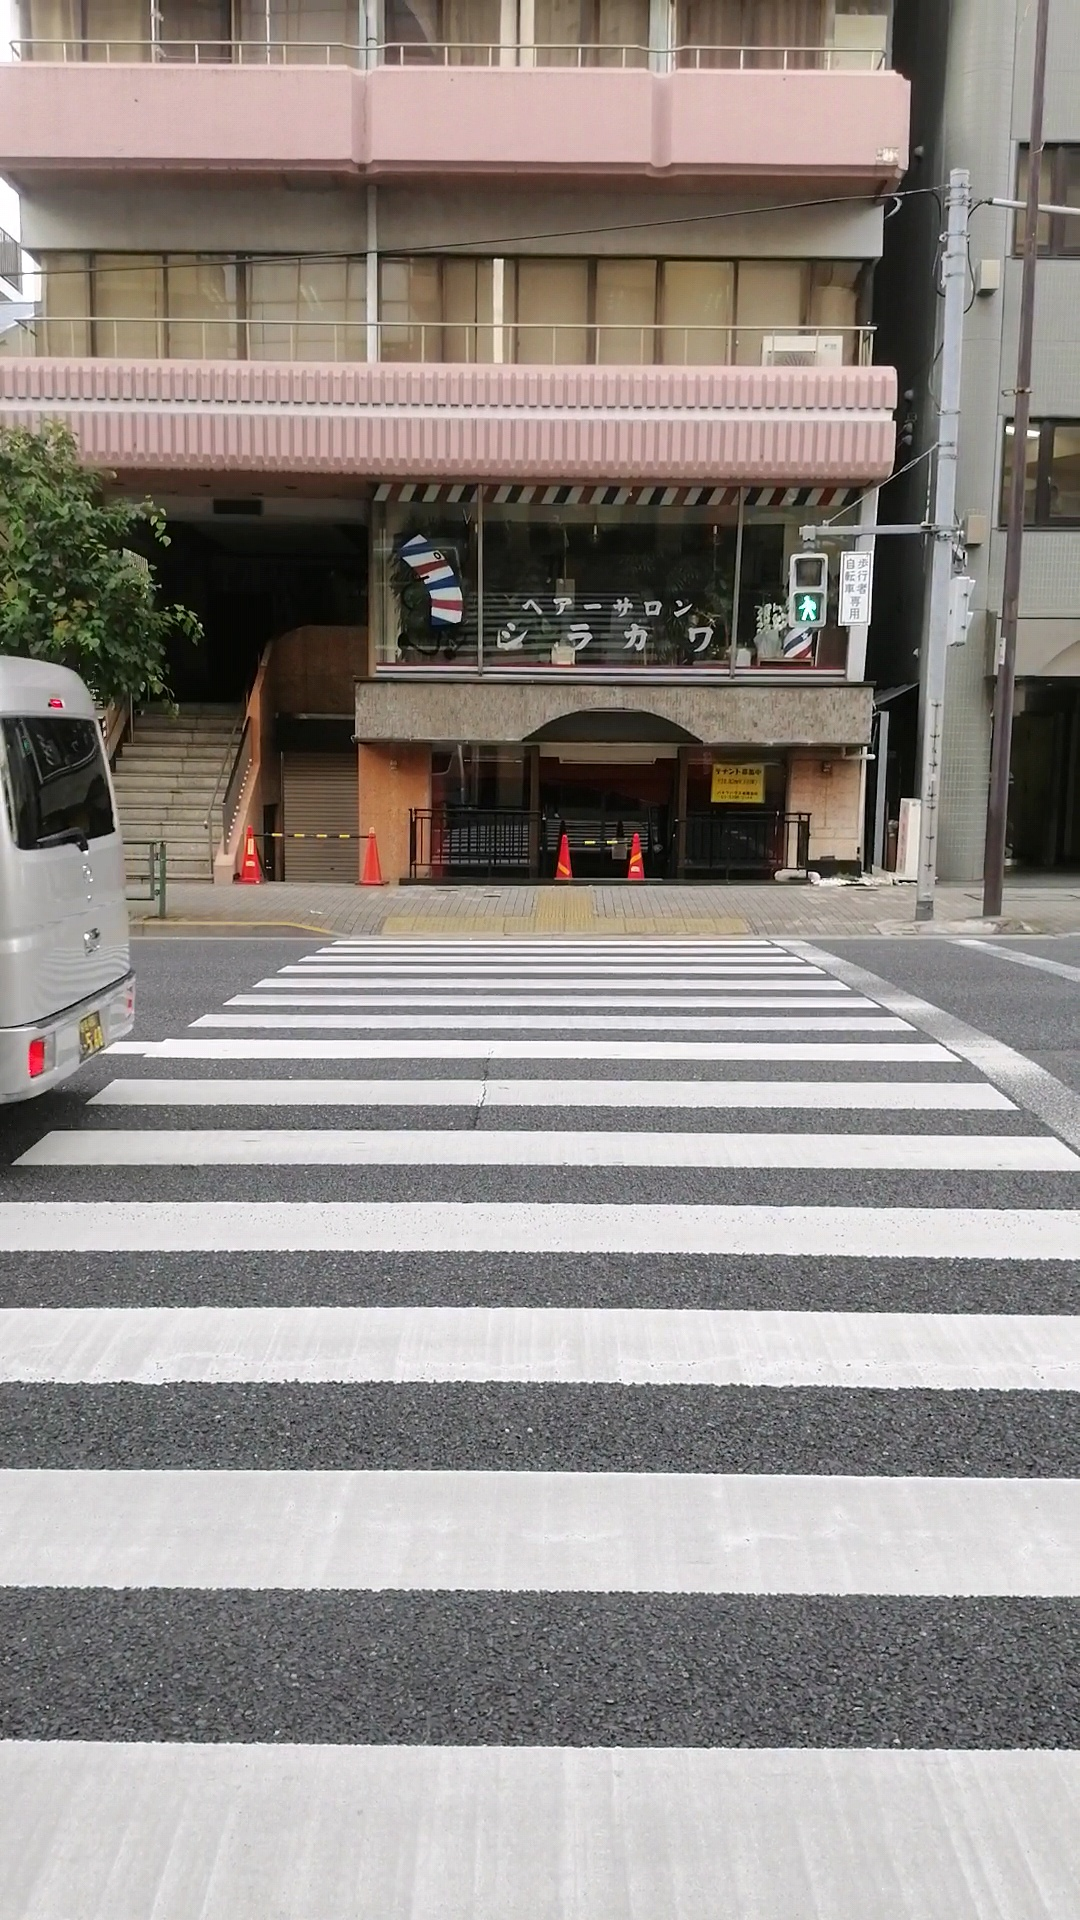green: (787, 553, 825, 626)
